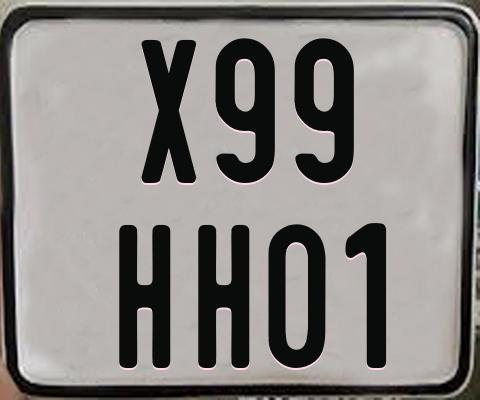0: (266, 222, 325, 369)
1: (342, 220, 386, 371)
9: (292, 37, 356, 183), (215, 37, 278, 183)
H: (116, 225, 172, 368), (196, 224, 248, 367)
X: (140, 40, 201, 184)
